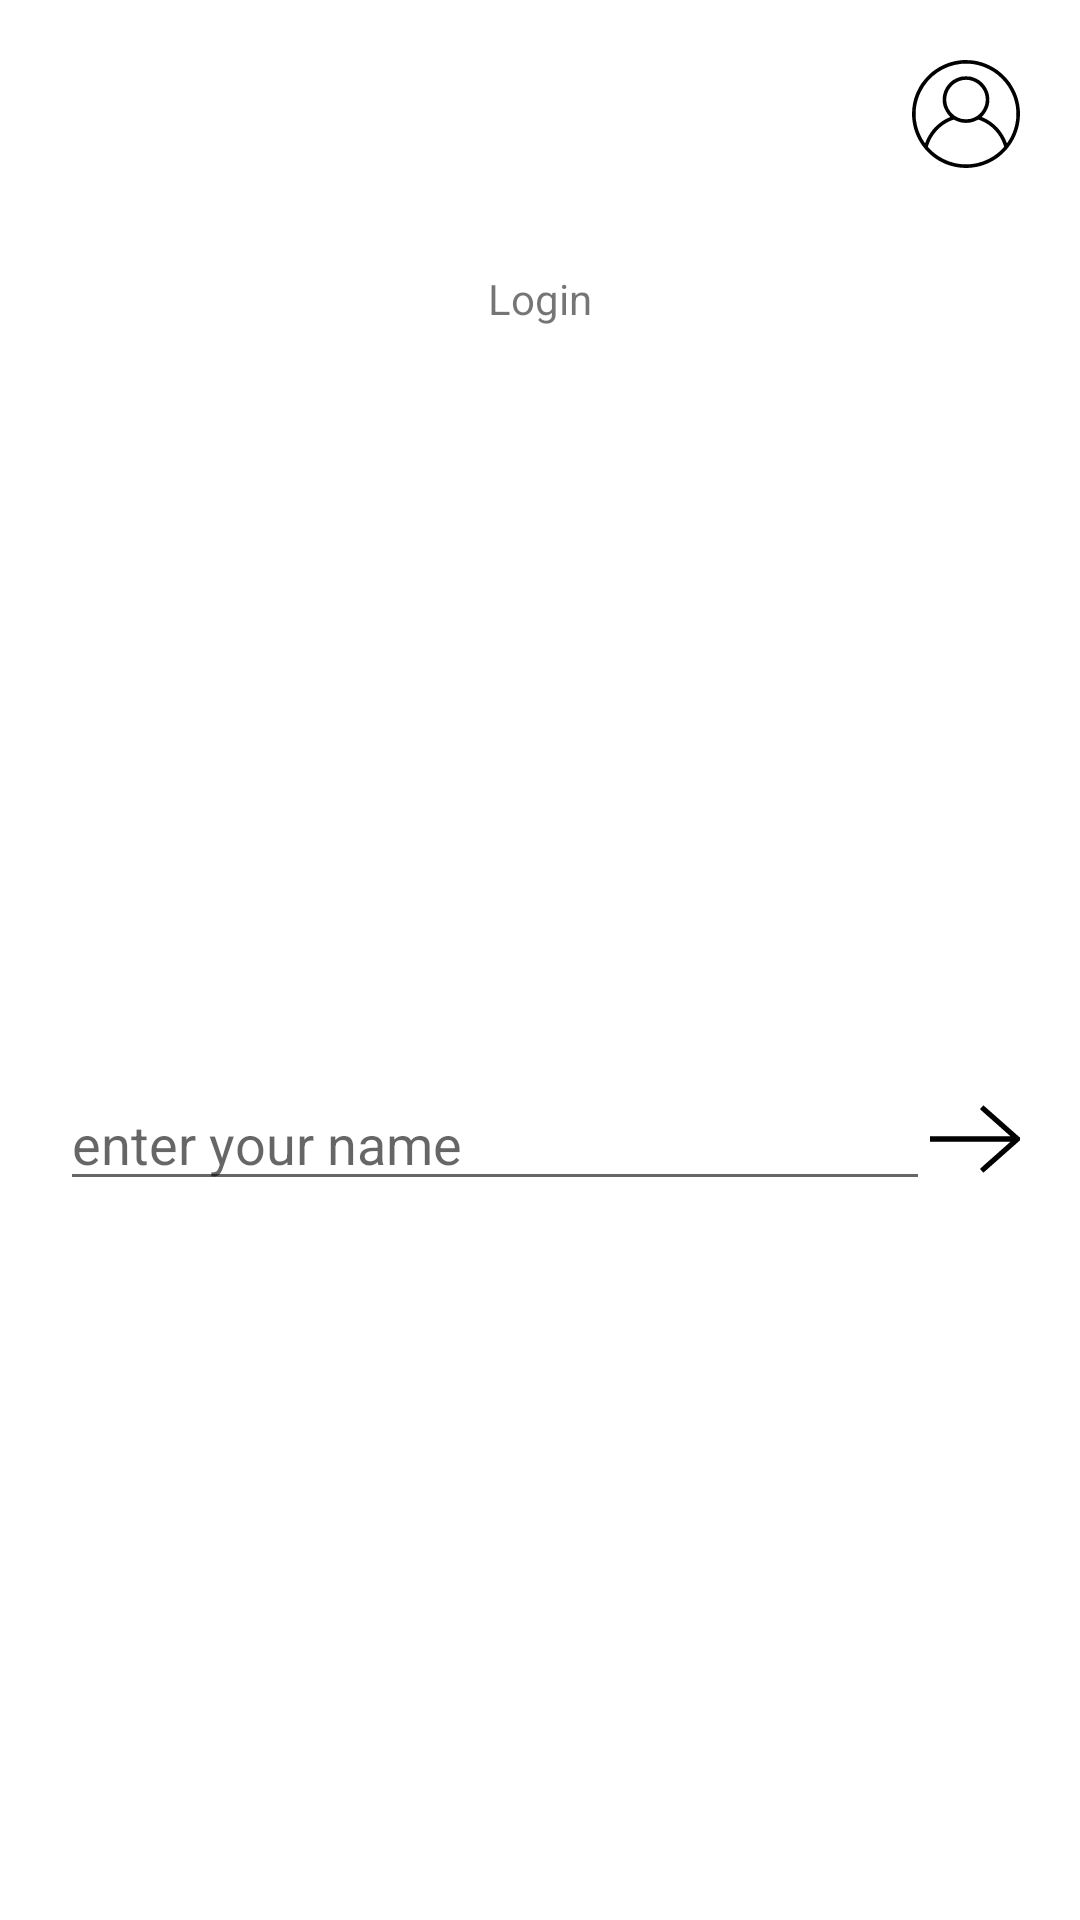

Icon bounding boxes for this 1080×1920 phone screenshot, format (x1, y1, x2, y2):
next: (930, 1105, 1020, 1173)
user: (912, 60, 1020, 168)
